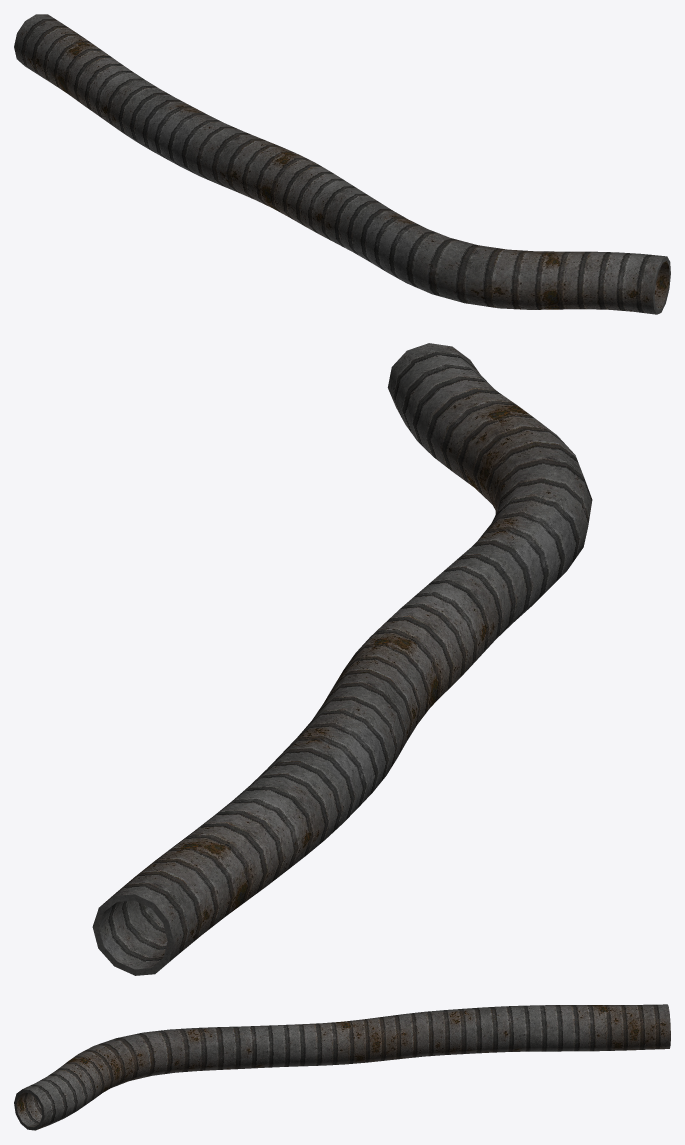
The model's file is pipe_e_3.glb.
The picture shows the model from 3 angles, top to bottom: view 1: azimuth 30°, elevation 25°; view 2: azimuth 150°, elevation 25°; view 3: azimuth 270°, elevation 25°; orthographic projection. The views are drawn at different scales.
Parts seen in each view (by area): view 1: pipe_e_3; view 2: pipe_e_3; view 3: pipe_e_3.
Boxes of the visible parts, x1,y1,x2,y2 form: pipe_e_3: (14, 14, 670, 314); pipe_e_3: (92, 343, 592, 975); pipe_e_3: (14, 1004, 670, 1130).
Bounding box in the file's own units: 1.31 × 0.25 × 3.65.
1 material, 1 textured.
